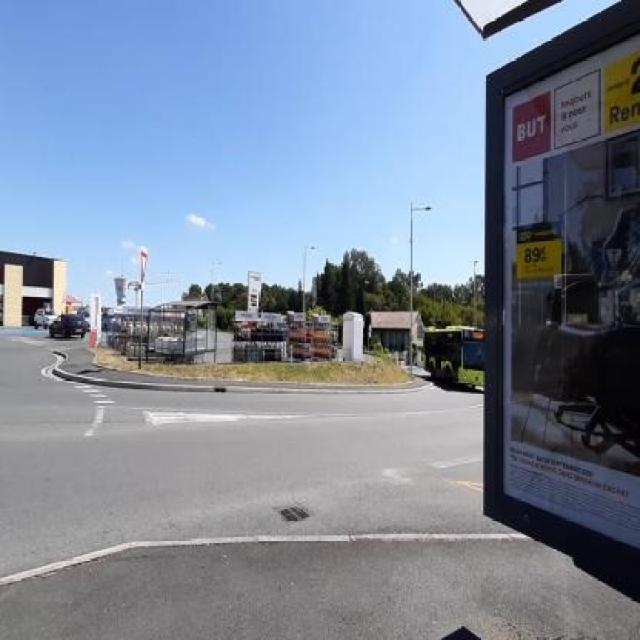Bus: (422, 324, 484, 390)
